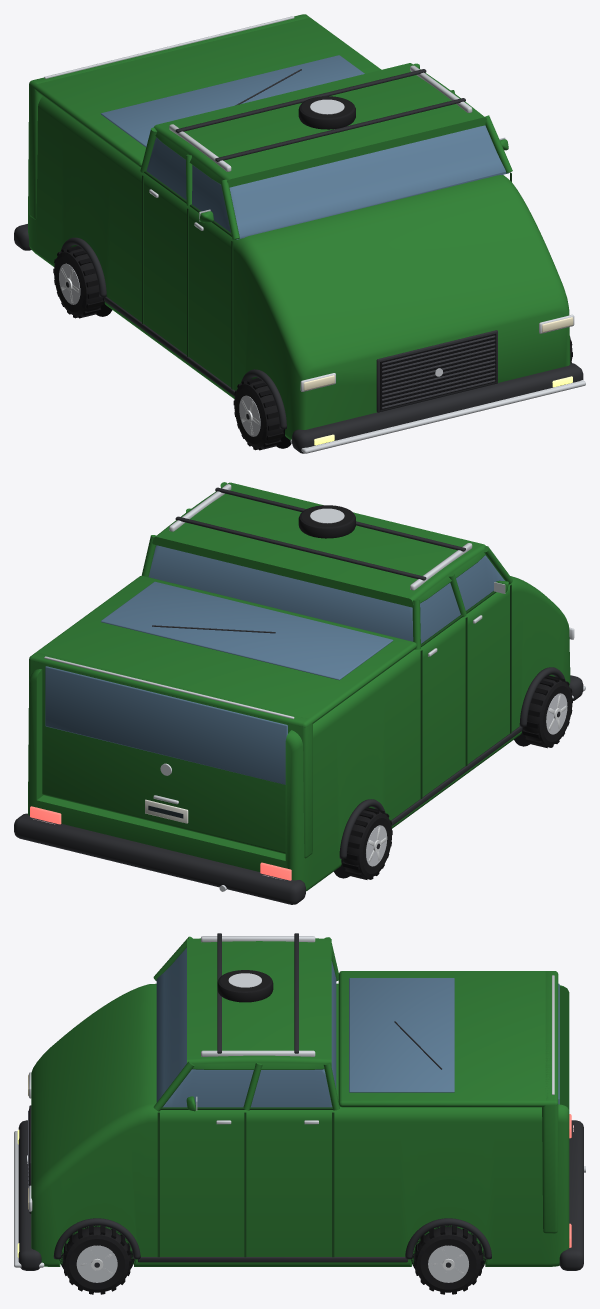
The model's file is camping.fbx.
3 renders of one model, top to bottom at view 1: azimuth 30°, elevation 25°; view 2: azimuth 150°, elevation 25°; view 3: azimuth 270°, elevation 25°, orthographic. The views are drawn at different scales.
Parts seen in each view (by area): view 1: Body, Lid, Wheel_3, Wheel_1, LidFlap; view 2: Body, LidFlap, Lid, Wheel_1, Wheel_3; view 3: Body, Lid, Wheel_0, Wheel_2, LidFlap.
Part boxes in pixels (x1,y1,x2,y2): Body: (14, 63, 585, 453); Lid: (29, 14, 381, 167); Wheel_3: (233, 377, 284, 450); Wheel_1: (53, 245, 103, 318); LidFlap: (29, 14, 308, 219); Body: (14, 482, 585, 904); LidFlap: (29, 652, 312, 858); Lid: (29, 575, 416, 727); Wheel_1: (342, 807, 392, 879); Wheel_3: (522, 675, 572, 748); Body: (14, 933, 585, 1270); Lid: (338, 971, 558, 1107); Wheel_0: (414, 1226, 483, 1294); Wheel_2: (62, 1226, 131, 1294); LidFlap: (542, 971, 559, 1233).
Bounding box in the file's own units: 7.5 × 5.81 × 12.24.
